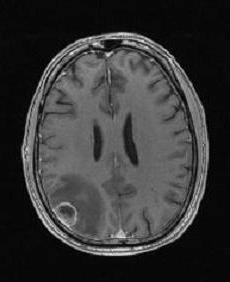Normal_Brain: (4, 2, 230, 282)
